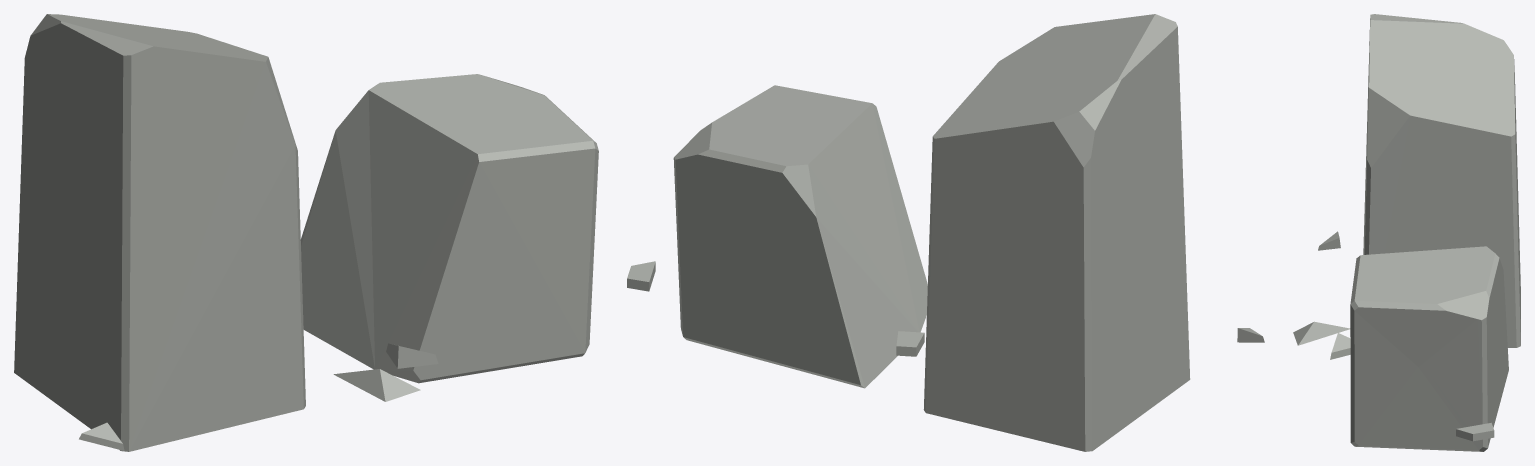
File: Rock_Square_crk_m_06.fbx
3 renders of one model, left to right at view 1: azimuth 30°, elevation 25°; view 2: azimuth 150°, elevation 25°; view 3: azimuth 270°, elevation 25°, orthographic. The views are drawn at different scales.
Visible parts, largest first — view 1: Rock_Square_crk_m_06; view 2: Rock_Square_crk_m_06; view 3: Rock_Square_crk_m_06.
Part boxes in pixels (bbox=[...]): Rock_Square_crk_m_06: bbox=[14, 14, 598, 451]; Rock_Square_crk_m_06: bbox=[627, 14, 1264, 451]; Rock_Square_crk_m_06: bbox=[1293, 14, 1520, 451].
Size of the model in its own units: 1.5 by 0.9671 by 0.7038.
